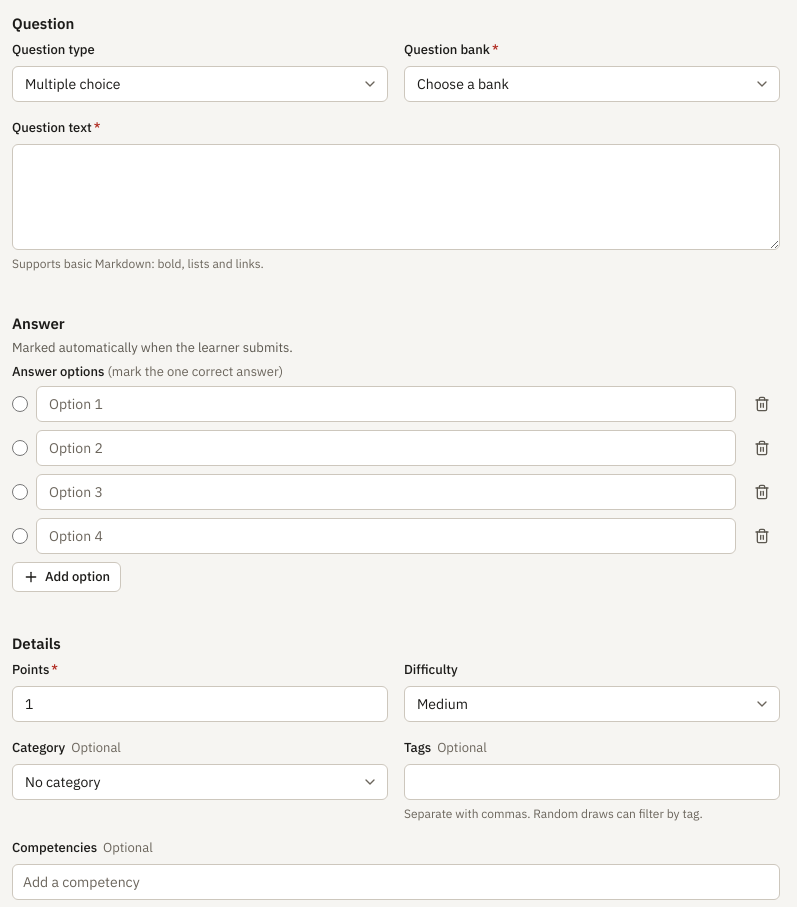
Test case: creating a question › shows the short_answer editor when that type is chosen
The width and height of the screenshot is (797, 907).
Select "Short answer" in the dropdown labelled "Question type" at (200, 84), box [12, 66, 388, 102]
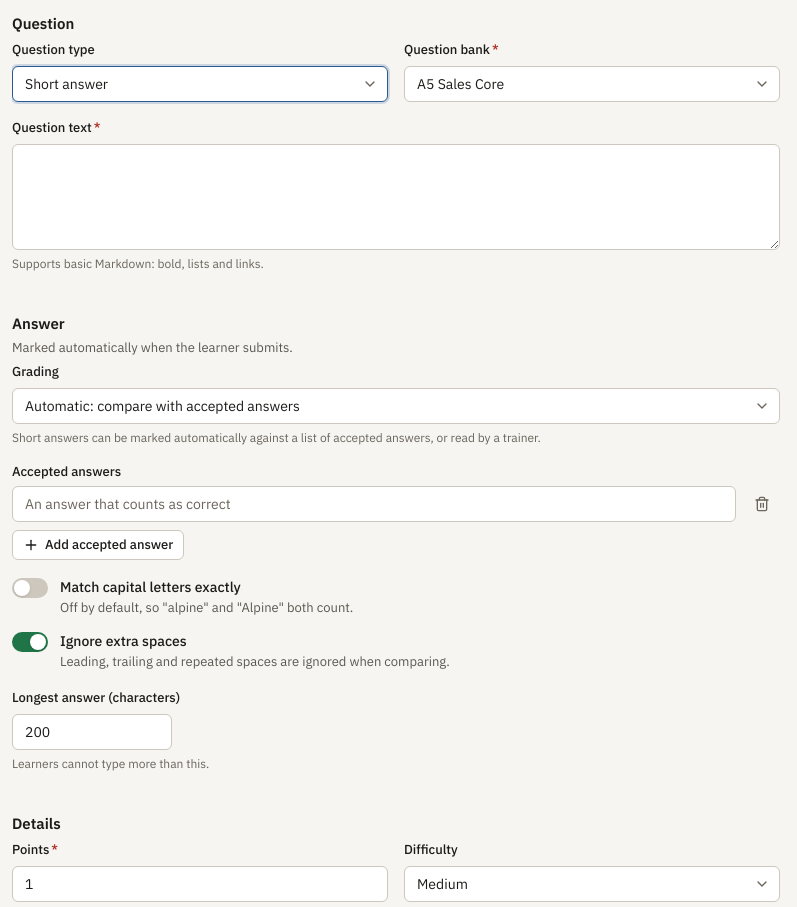
expect the text "Accepted answers" is shown: met, box [12, 462, 121, 482]
